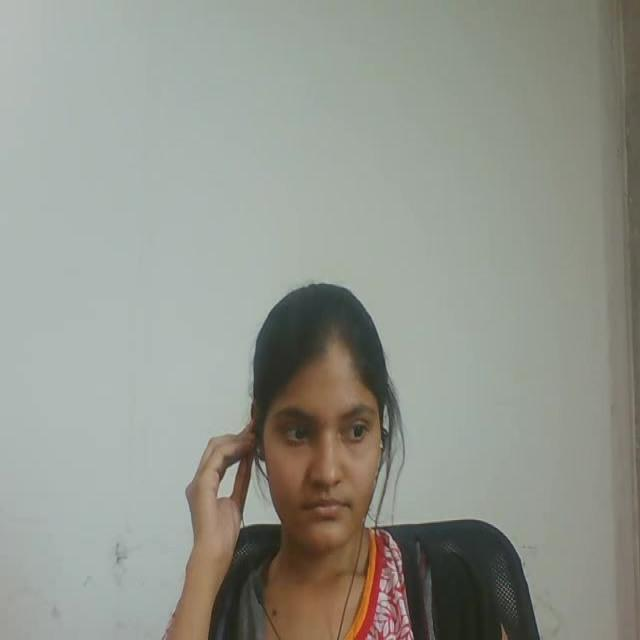Bored: (226, 272, 422, 558)
